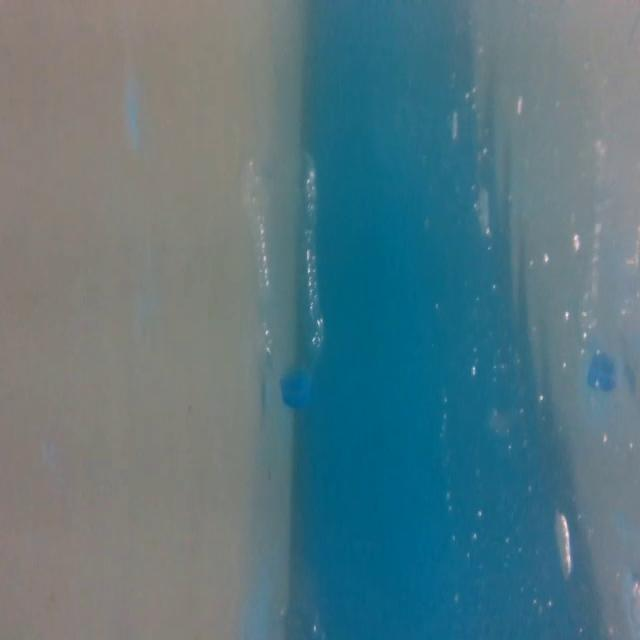plastic bottle: (236, 137, 337, 418)
